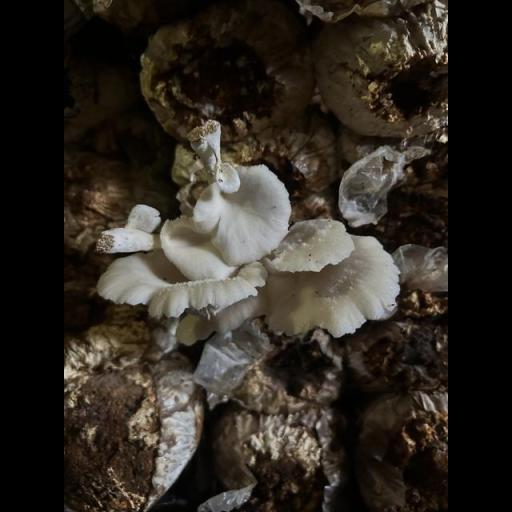White Oyster Mushroom: (95, 119, 414, 365)
